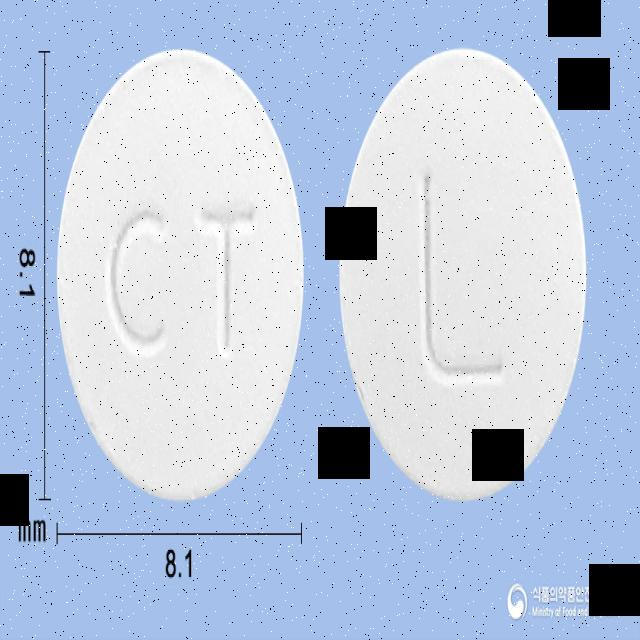Leflocin: (57, 45, 305, 503), (337, 45, 588, 497)
